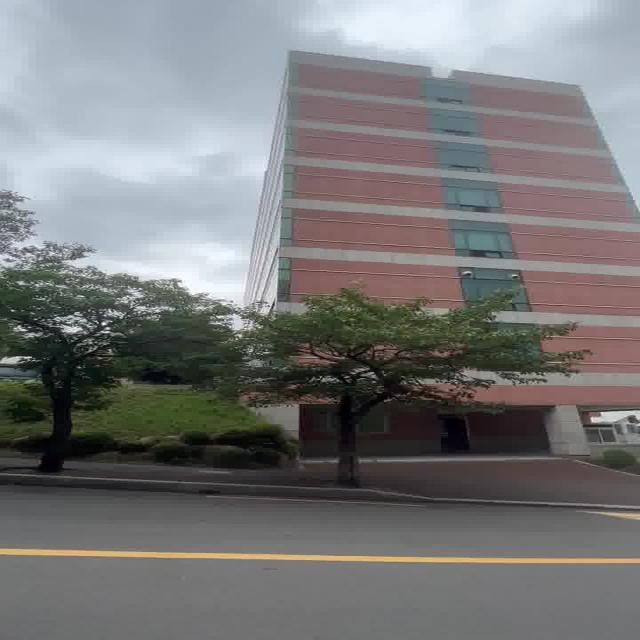building: (266, 47, 640, 309)
